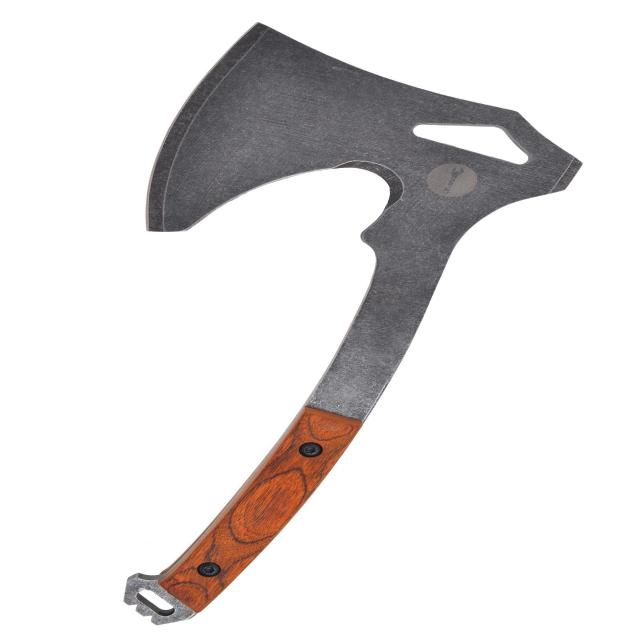Kapak: (89, 19, 590, 629)
